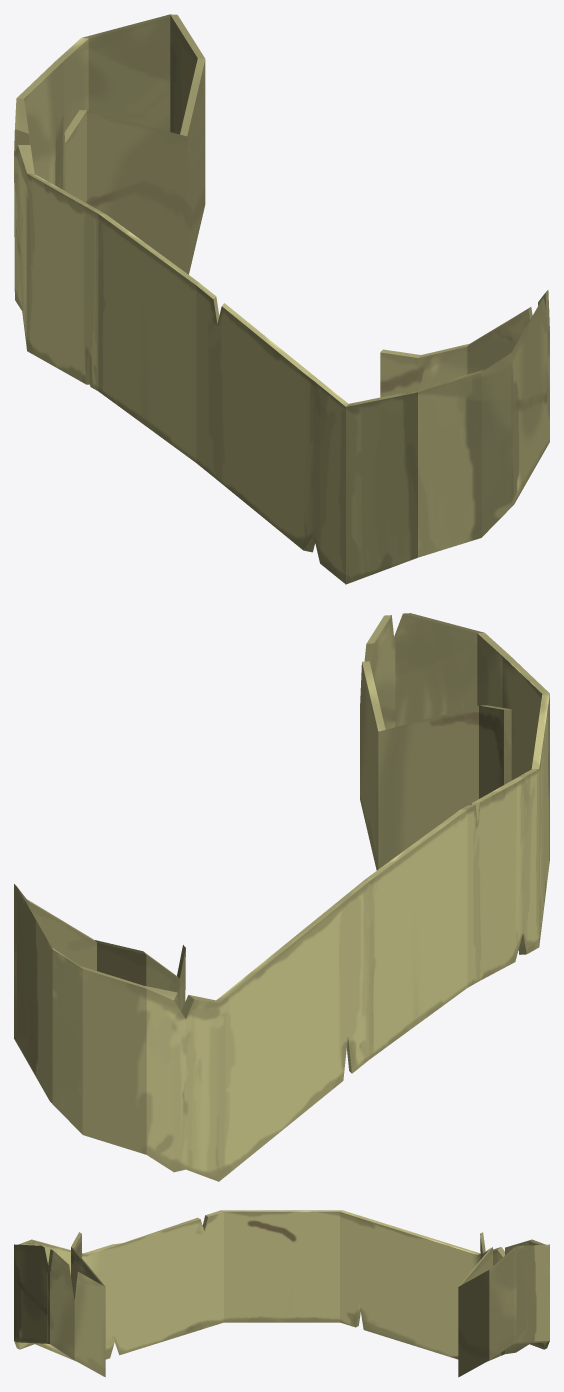
The model's file is scroll.fbx.
3 renders of one model, top to bottom at view 1: azimuth 30°, elevation 25°; view 2: azimuth 150°, elevation 25°; view 3: azimuth 270°, elevation 25°, orthographic. The views are drawn at different scales.
Visible parts, largest first — view 1: scroll; view 2: scroll; view 3: scroll.
Part boxes in pixels (box(x1,y1,x2,y2)): scroll: box(14, 14, 549, 584); scroll: box(14, 613, 549, 1181); scroll: box(14, 1210, 549, 1377).
Bounding box in the file's own units: 2.64 × 3.08 × 8.78.
